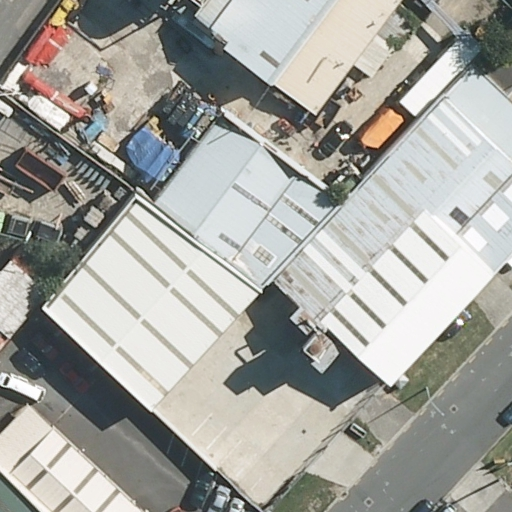DT: (425, 390, 443, 417)
